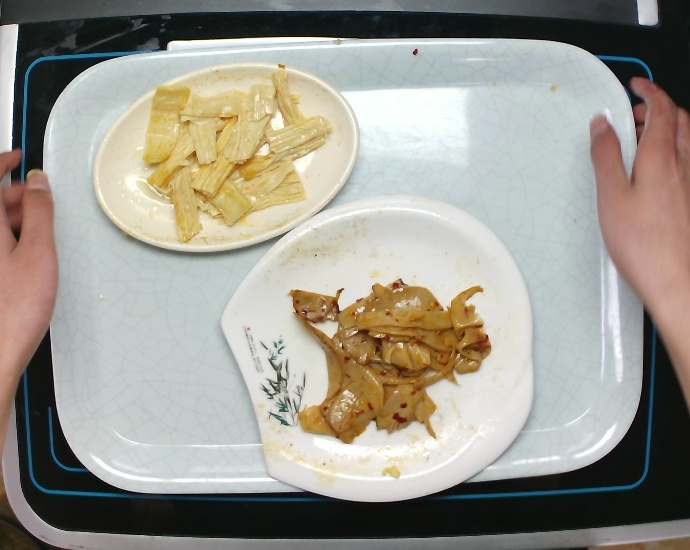JYsf-Mian_Pan: (216, 191, 537, 505)
JYsf-Tuo_Yuan_Wan: (90, 57, 362, 256)
